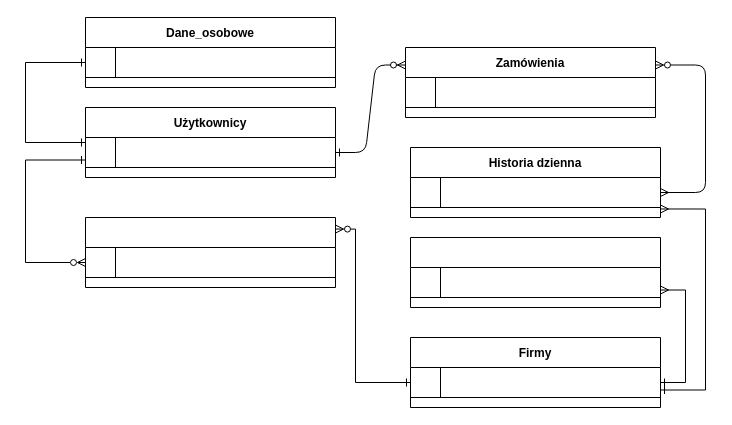
This 732x425 diagram has some shape labels left out. The centre of each missing label's shape, as x and y in pixels:
"Historia roczna" belongs at (535,272).
"Ulubione" belongs at (210,252).
